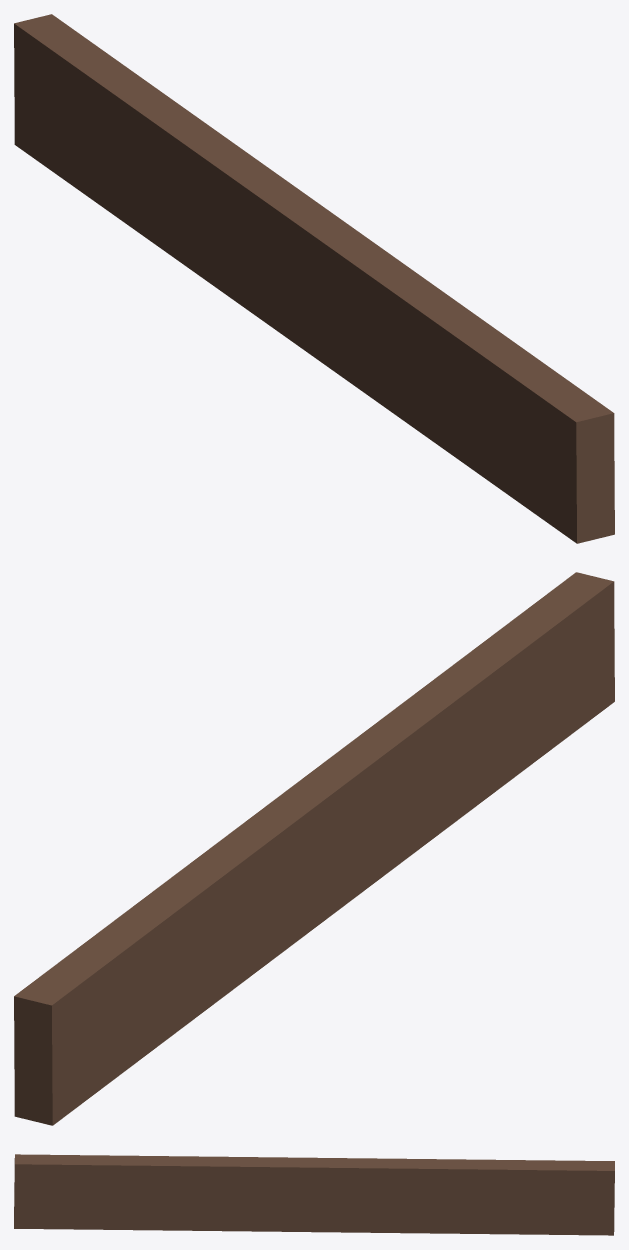
3 renders of one model, top to bottom at view 1: azimuth 30°, elevation 25°; view 2: azimuth 150°, elevation 25°; view 3: azimuth 270°, elevation 25°, orthographic. The views are drawn at different scales.
Visible parts, largest first — view 1: Cube.020; view 2: Cube.020; view 3: Cube.020.
Part boxes in pixels (<box>): Cube.020: <box>14,14,614,543</box>; Cube.020: <box>14,572,614,1125</box>; Cube.020: <box>14,1154,614,1235</box>.
Size of the model in its own units: 0.0392 by 0.1319 by 1.01.
